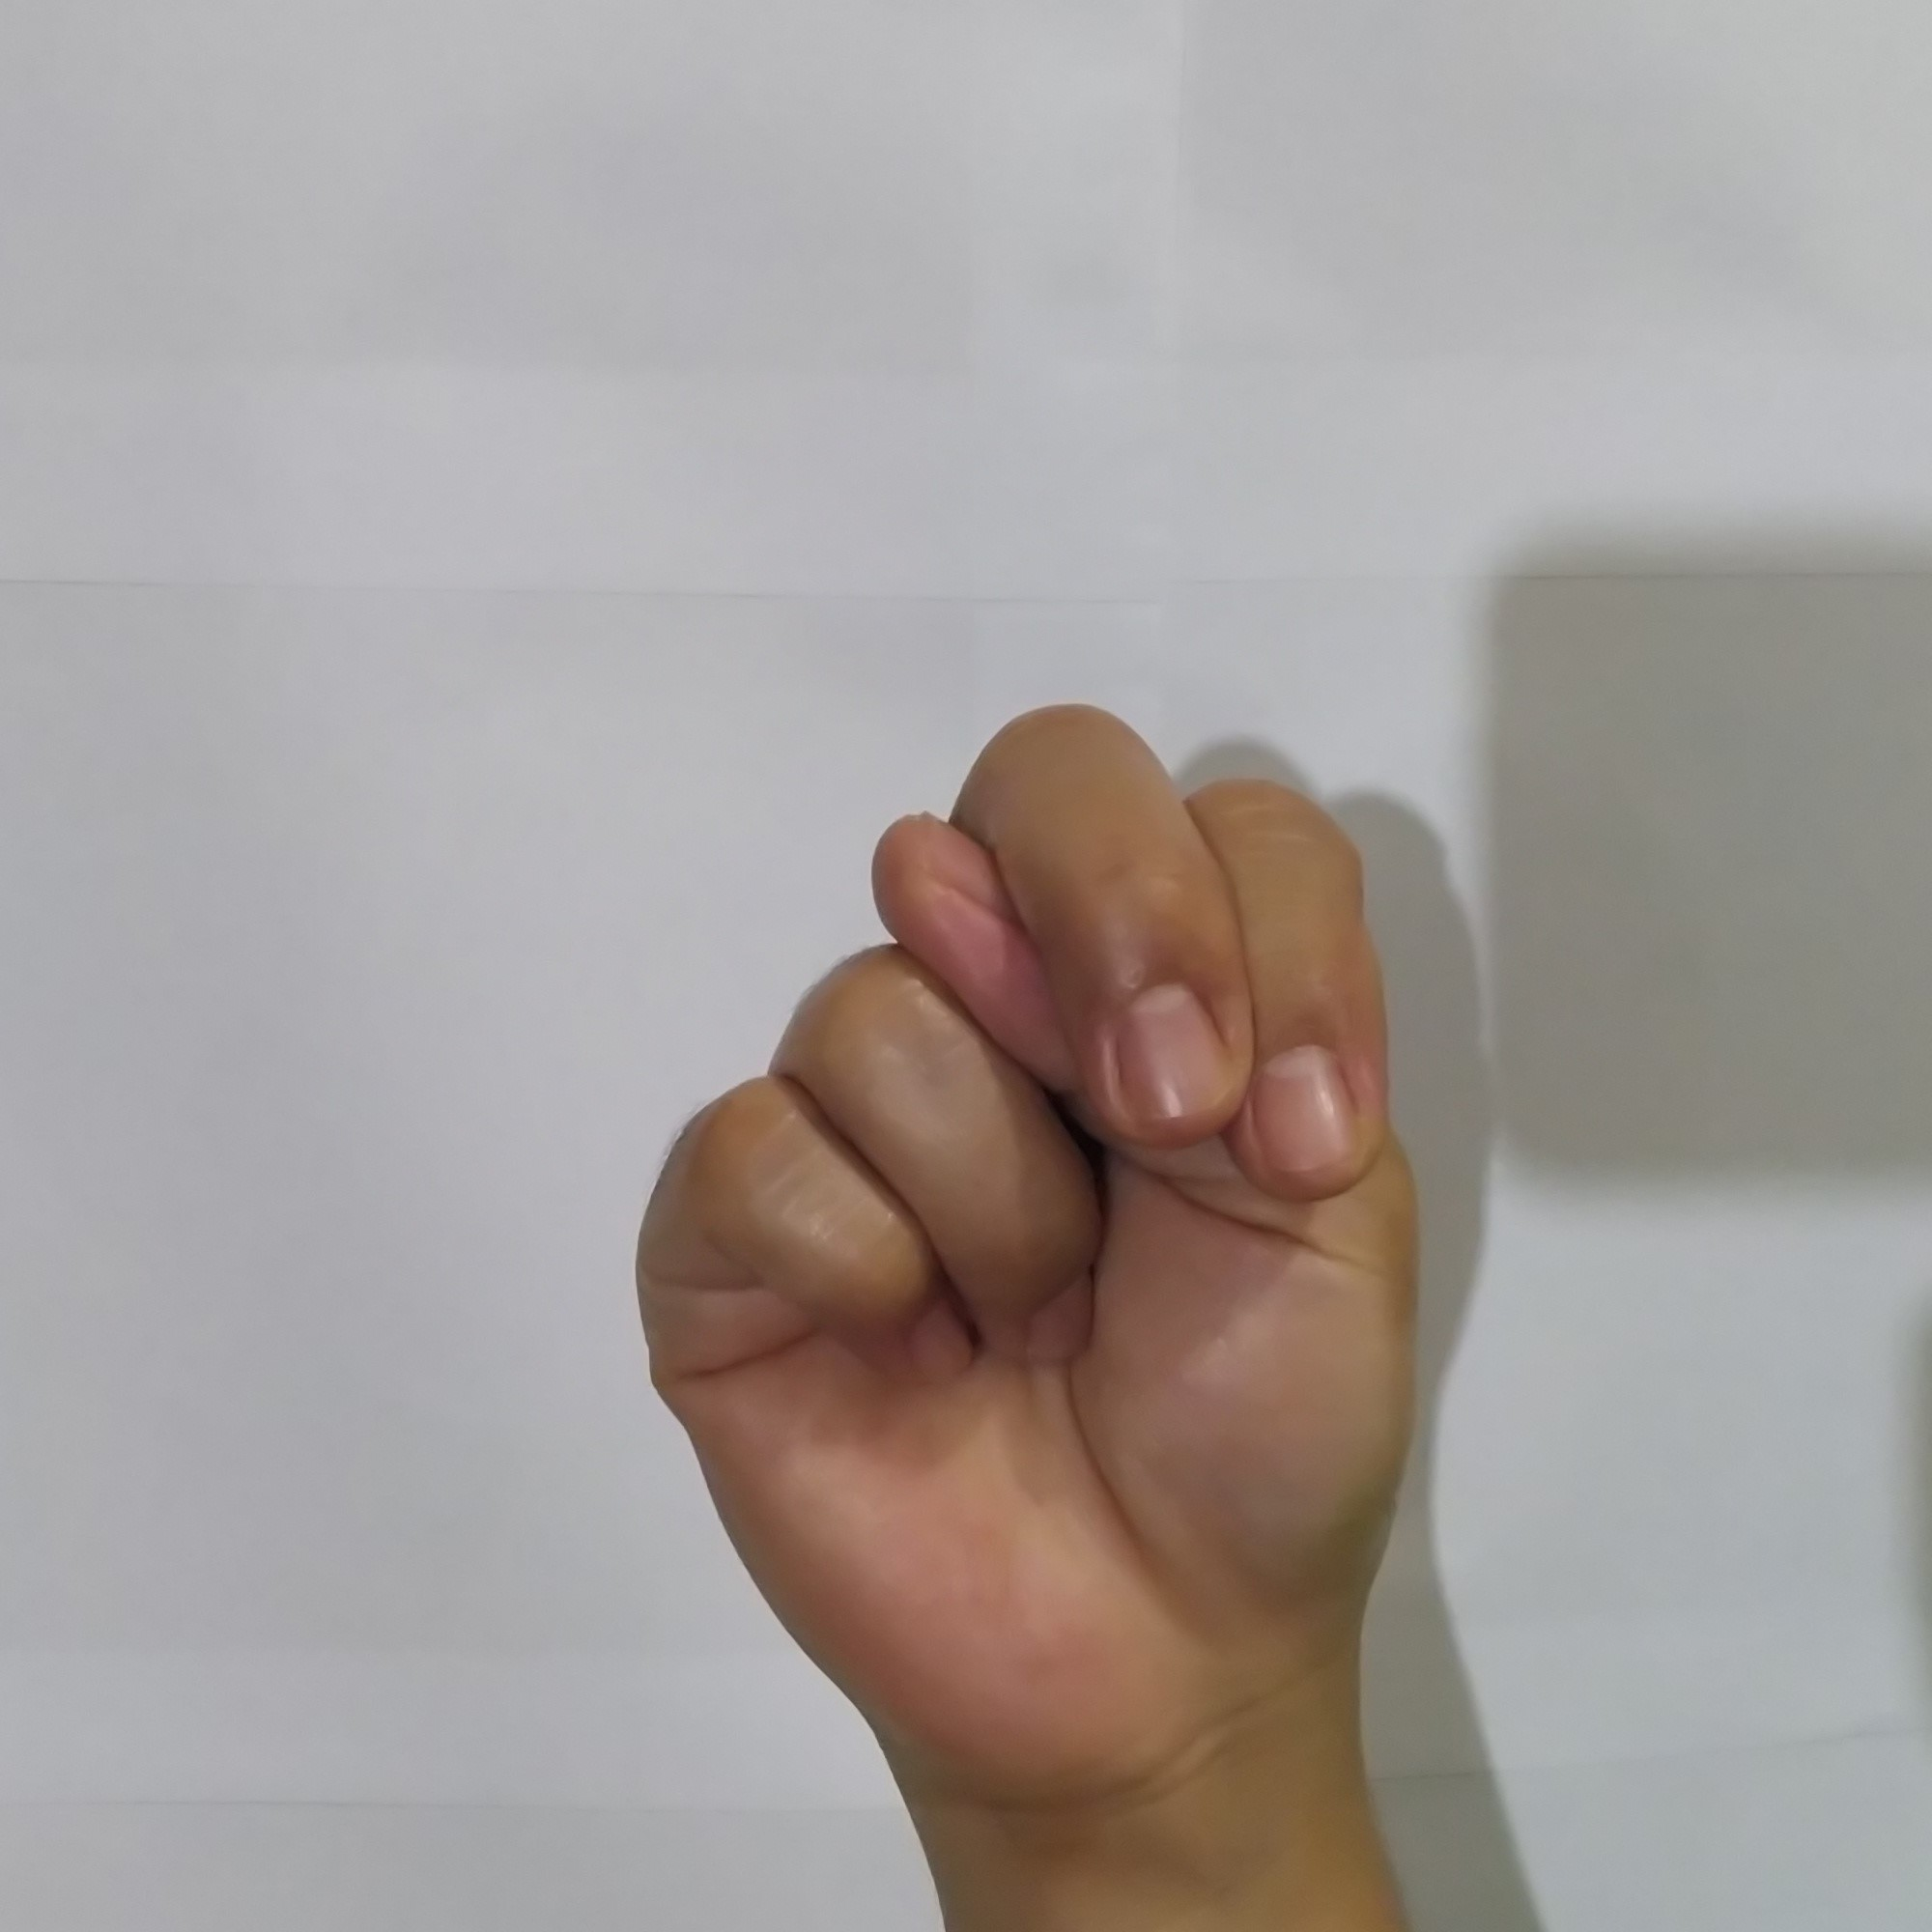N: (589, 678, 1456, 1736)
